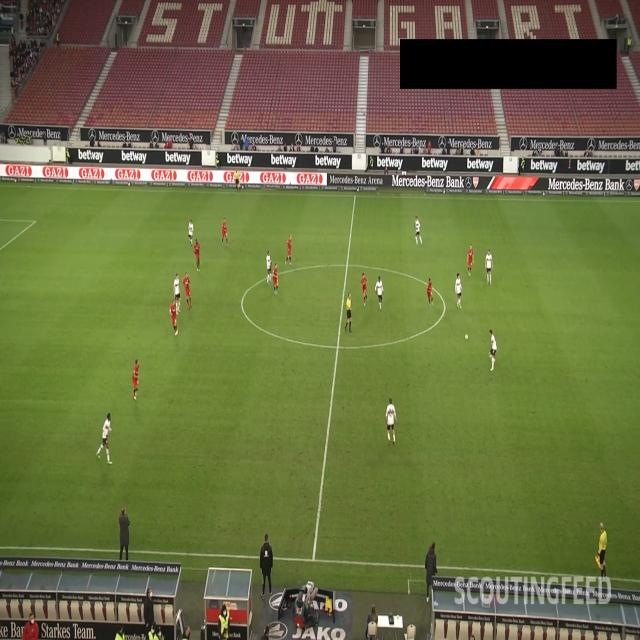ball: (464, 333, 469, 342)
